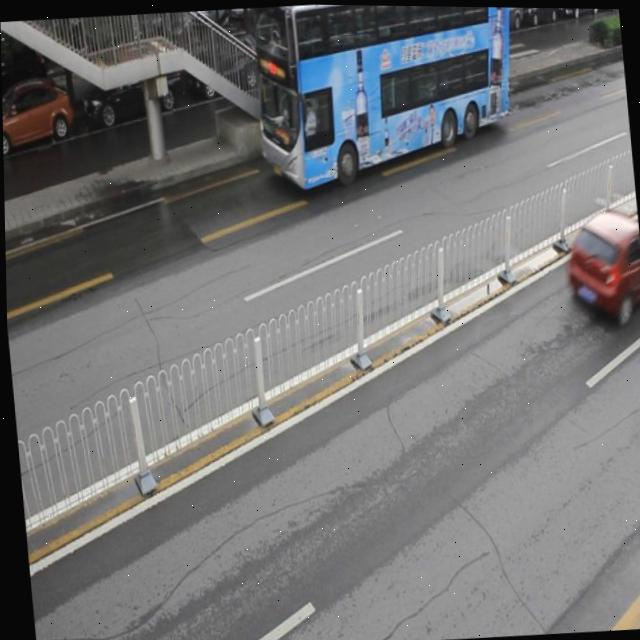car: (556, 203, 640, 329), (75, 55, 184, 127), (263, 12, 353, 85), (1, 76, 74, 158), (183, 28, 262, 99), (325, 29, 391, 102)
van: (244, 3, 524, 195)
